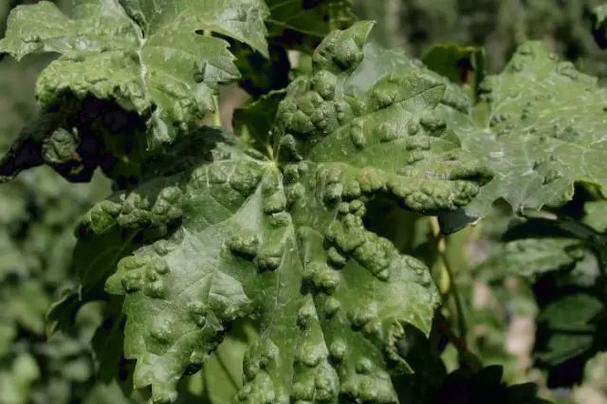Gall_Mite: (259, 183, 466, 380), (77, 189, 300, 325), (225, 79, 420, 231), (474, 61, 581, 219)
